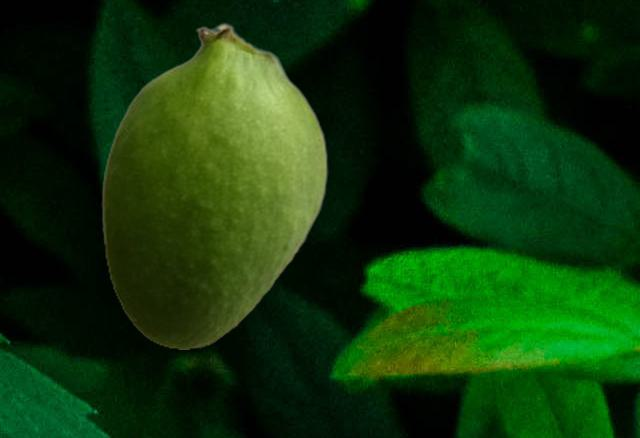green_mango: (101, 22, 327, 348)
